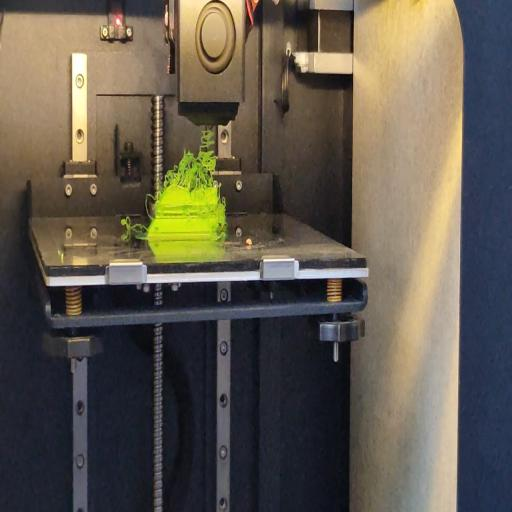spaghetti: (164, 130, 218, 190), (119, 216, 148, 231), (143, 191, 154, 212), (216, 232, 226, 240)
